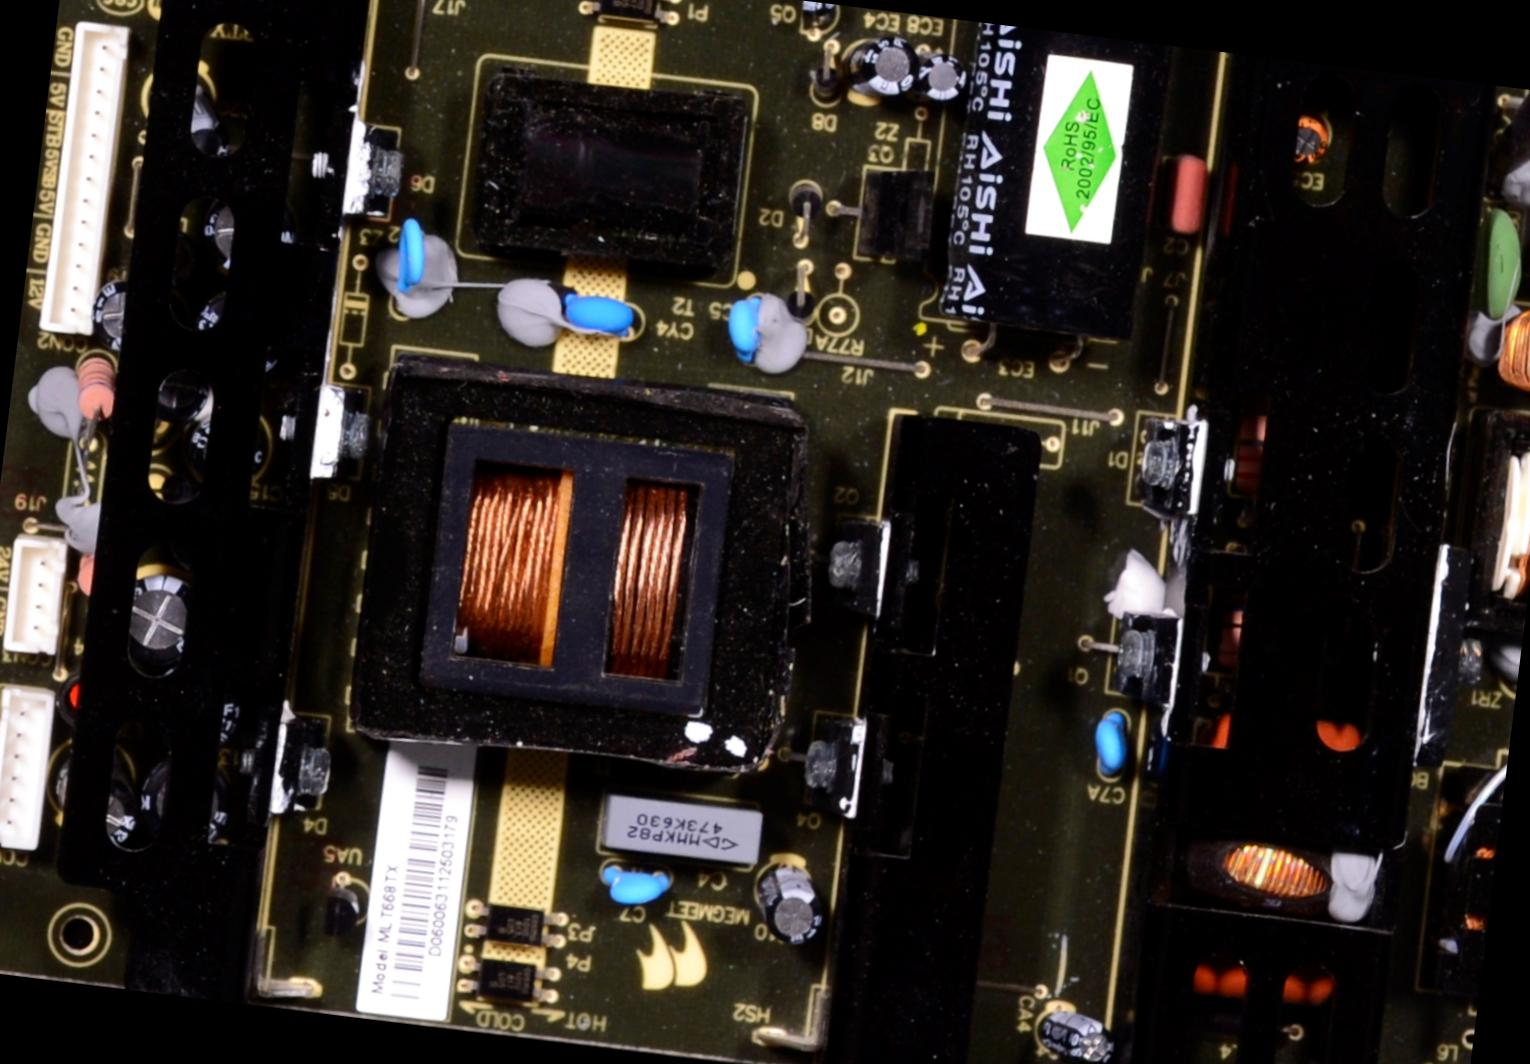Capacitor Jumper: (708, 279, 782, 391), (589, 856, 688, 935), (548, 279, 646, 350), (1078, 692, 1129, 804), (389, 212, 444, 310)
Connector: (43, 23, 129, 336), (0, 533, 71, 671), (0, 686, 60, 848)
Transistor: (818, 156, 948, 276)
